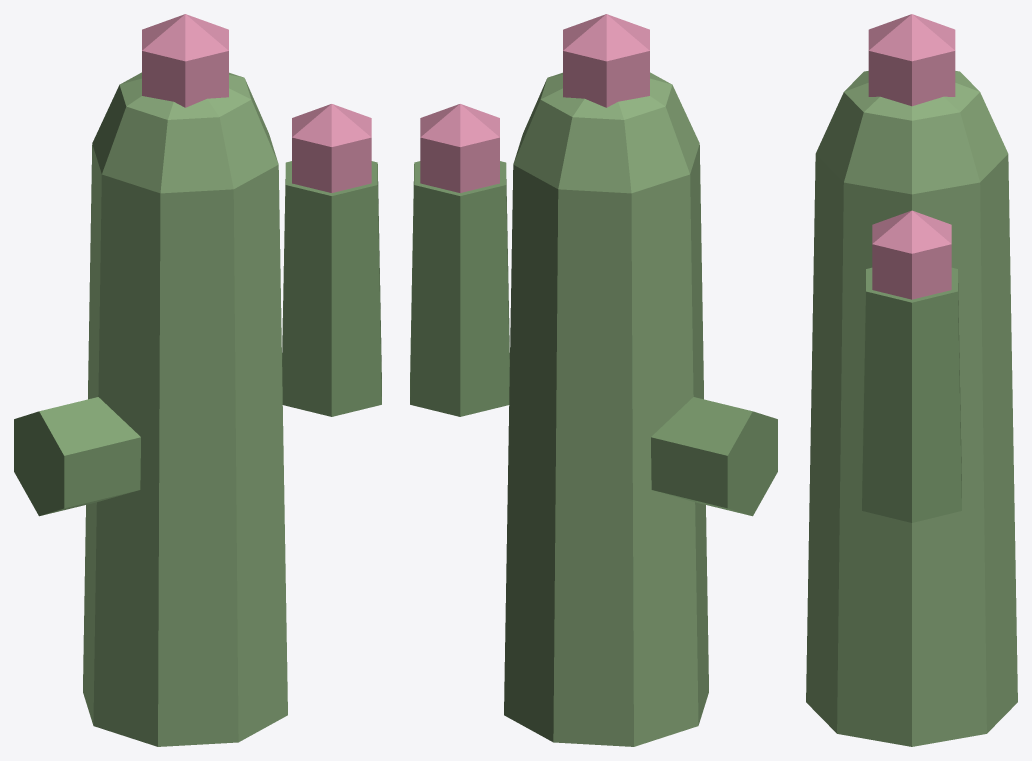
Rendered from tarhut_cacto_1.glb.
The picture shows the model from 3 angles, left to right: view 1: azimuth 30°, elevation 25°; view 2: azimuth 150°, elevation 25°; view 3: azimuth 270°, elevation 25°; orthographic projection.
Visible parts, largest first — view 1: cacto; view 2: cacto; view 3: cacto.
Part boxes in pixels (x1,y1,x2,y2): cacto: [14, 14, 381, 746]; cacto: [410, 14, 777, 746]; cacto: [806, 14, 1017, 746].
Size of the model in its own units: 0.8201 by 1.58 by 0.44.
